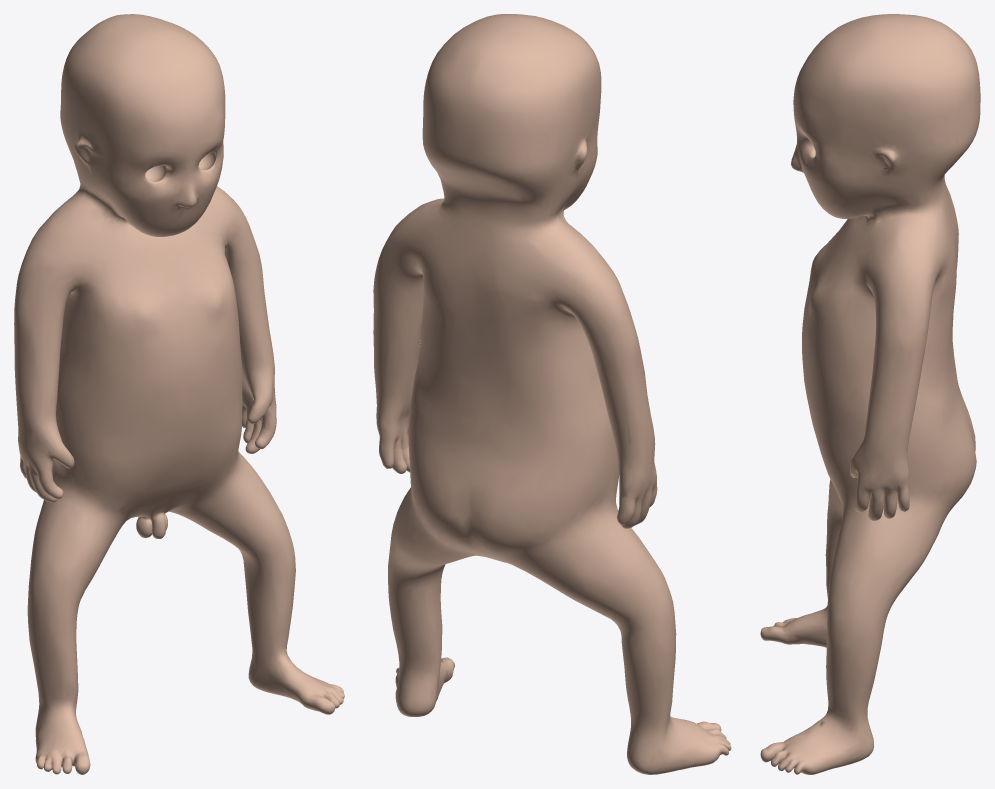
File: pediatric_neonate_male.surface.LOD1.glb
3 renders of one model, left to right at view 1: azimuth 30°, elevation 25°; view 2: azimuth 150°, elevation 25°; view 3: azimuth 270°, elevation 25°, orthographic. The views are drawn at different scales.
Visible parts, largest first — view 1: PEDIATRIC.NEONATE.MALE.SURFACE.SKIN; view 2: PEDIATRIC.NEONATE.MALE.SURFACE.SKIN; view 3: PEDIATRIC.NEONATE.MALE.SURFACE.SKIN.
Part boxes in pixels (box(x1,y1,x2,y2)): PEDIATRIC.NEONATE.MALE.SURFACE.SKIN: box(14, 14, 344, 774); PEDIATRIC.NEONATE.MALE.SURFACE.SKIN: box(373, 14, 731, 774); PEDIATRIC.NEONATE.MALE.SURFACE.SKIN: box(760, 14, 980, 774).
Bounding box in the file's own units: 0.2275 × 0.4814 × 0.1405.
